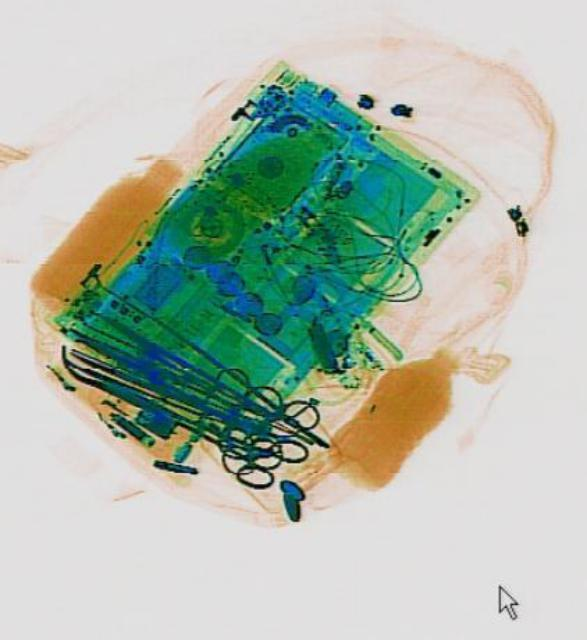Scissors: (168, 386, 309, 504)
